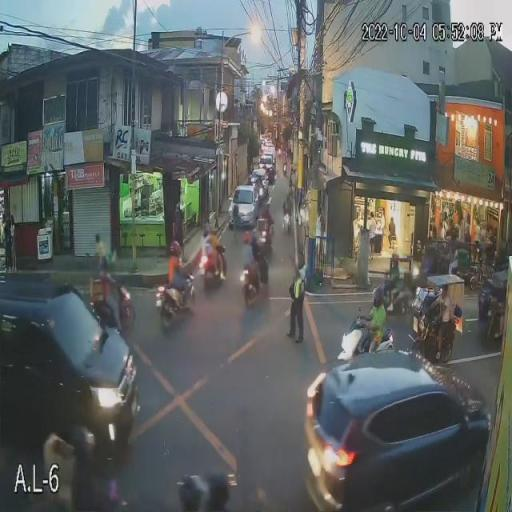helmet: (178, 476, 207, 507), (208, 472, 232, 507), (373, 287, 385, 309), (168, 240, 182, 256), (208, 220, 220, 232), (202, 221, 210, 235), (243, 230, 251, 244), (392, 253, 398, 265)
motorcycle: (154, 284, 200, 330), (335, 323, 397, 349), (239, 264, 265, 306), (198, 253, 227, 286), (381, 286, 409, 310)
rider: (169, 256, 193, 310), (243, 245, 263, 292), (367, 306, 387, 350), (210, 234, 226, 281), (202, 238, 220, 275), (386, 266, 399, 312)
